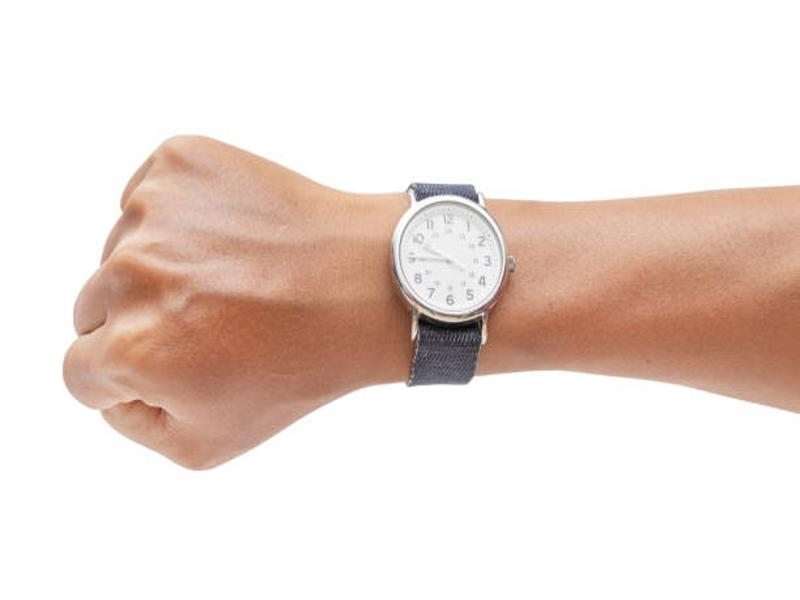watch: (391, 182, 516, 390)
